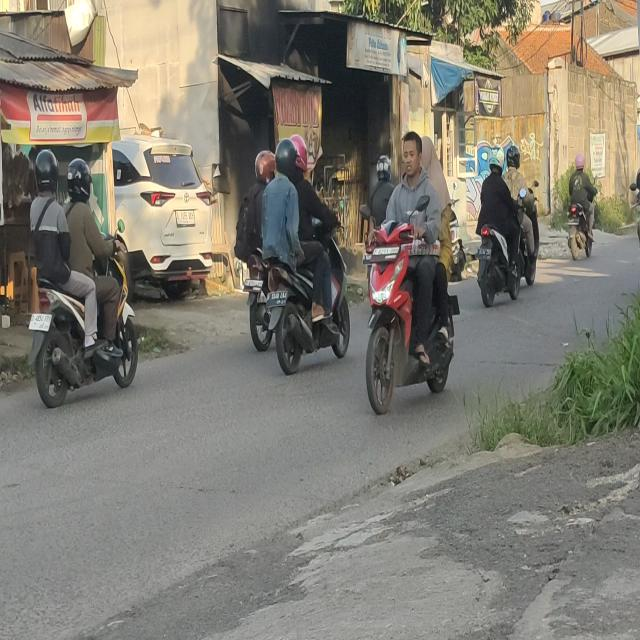helmet: (35, 150, 59, 194), (68, 158, 91, 203), (275, 136, 296, 178), (256, 148, 274, 184), (293, 133, 308, 170), (489, 144, 505, 173), (376, 156, 392, 183), (506, 145, 521, 171), (576, 152, 585, 171)
no-helmet: (402, 132, 422, 177), (422, 134, 437, 177)
